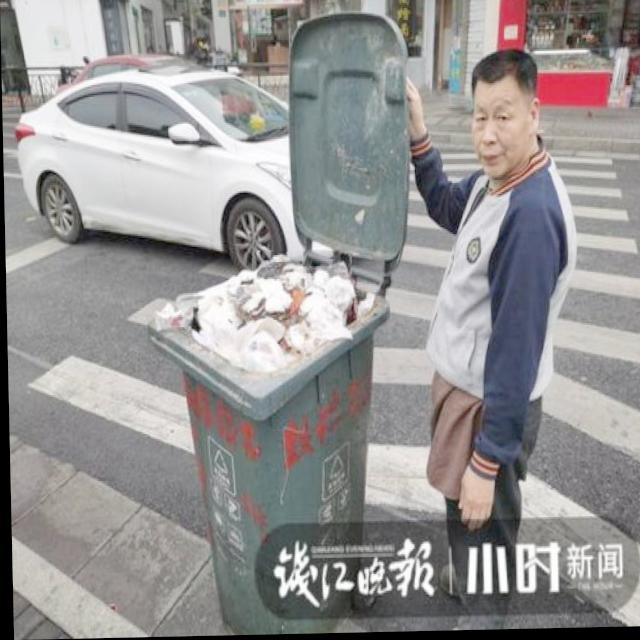overflow: (144, 251, 393, 636)
